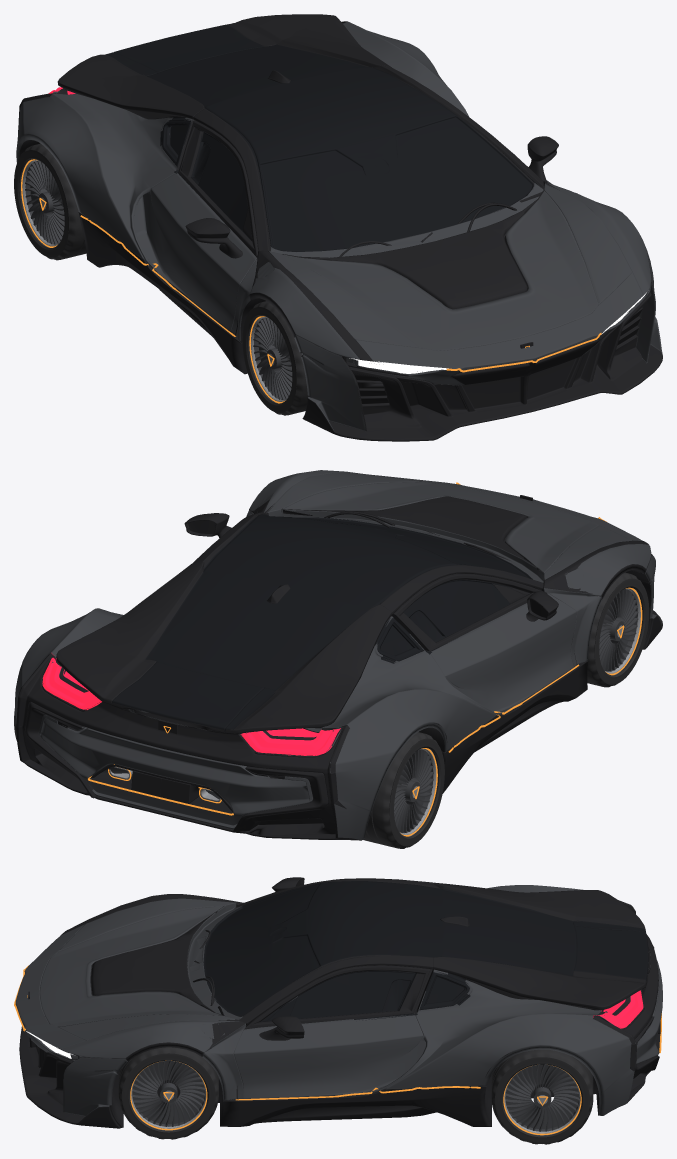
File: tachyon_rig.glb
The picture shows the model from 3 angles, top to bottom: view 1: azimuth 30°, elevation 25°; view 2: azimuth 150°, elevation 25°; view 3: azimuth 270°, elevation 25°; orthographic projection. The views are drawn at different scales.
Visible parts, largest first — view 1: Body_mesh, Wheel_RR_mesh, Wheel_FR_mesh; view 2: Body_mesh, Wheel_RR_mesh, Wheel_FR_mesh; view 3: Body_mesh, Wheel_RL_mesh, Wheel_FL_mesh.
Boxes of the visible parts, <box> form: Body_mesh: <box>16,14,662,441</box>; Wheel_RR_mesh: <box>14,143,86,260</box>; Wheel_FR_mesh: <box>242,301,307,415</box>; Body_mesh: <box>15,470,662,840</box>; Wheel_RR_mesh: <box>363,732,444,848</box>; Wheel_FR_mesh: <box>587,572,649,687</box>; Body_mesh: <box>14,877,662,1128</box>; Wheel_RL_mesh: <box>491,1049,593,1144</box>; Wheel_FL_mesh: <box>118,1047,218,1139</box>.
Bounding box in the file's own units: 2.82 × 1.27 × 4.86.
